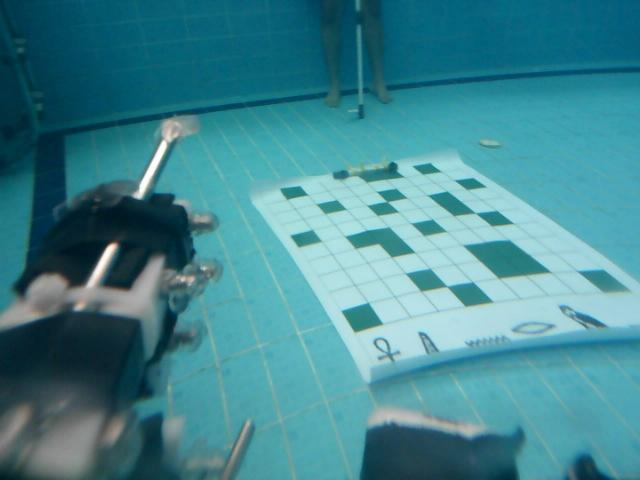Ankh: (371, 337, 399, 366)
Mouth: (511, 321, 558, 336)
Owl: (558, 304, 609, 333)
Reed: (417, 330, 441, 360)
Water: (465, 333, 509, 349)
